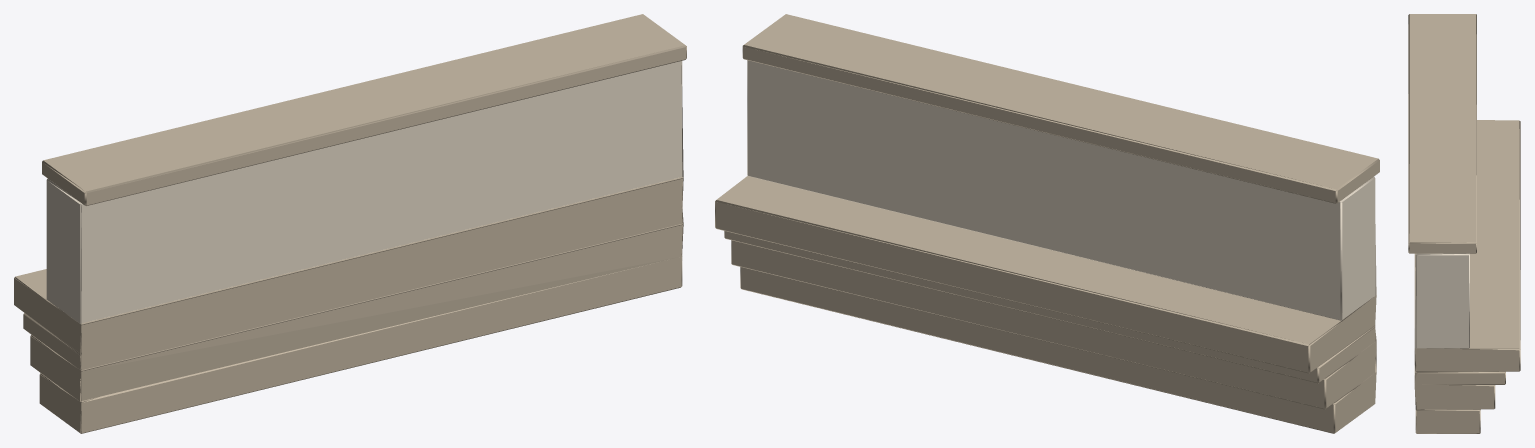
The model's file is SM_VB_FacA_Cornice.fbx.
The picture shows the model from 3 angles, left to right: view 1: azimuth 30°, elevation 25°; view 2: azimuth 150°, elevation 25°; view 3: azimuth 270°, elevation 25°; orthographic projection. The views are drawn at different scales.
Visible parts, largest first — view 1: SM_VB_FacA_Cornice; view 2: SM_VB_FacA_Cornice; view 3: SM_VB_FacA_Cornice.
Boxes of the visible parts, x1,y1,x2,y2 form: SM_VB_FacA_Cornice: [14, 14, 686, 433]; SM_VB_FacA_Cornice: [715, 14, 1379, 433]; SM_VB_FacA_Cornice: [1408, 14, 1520, 433].
Bounding box in the file's own units: 3 × 1.17 × 0.62.
